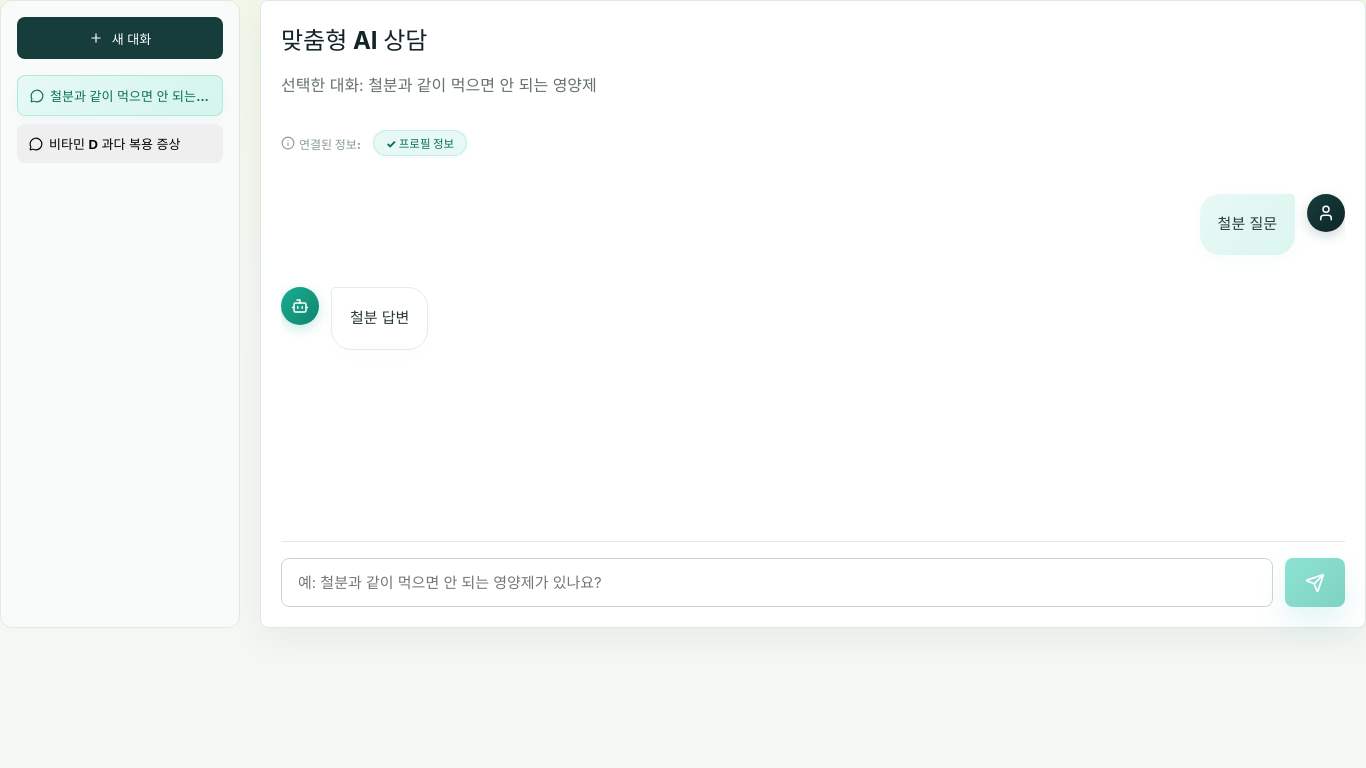
Scenario: ChatPage previous conversations › prefetches stored session messages after loading the session list
This screenshot has width=1366, height=768.
Expected: the text "철분 질문" is shown, top-left (1218, 212), bottom-right (1277, 237)
Expected: the element with class "chat-sidebar" is shown, top-left (0, 0), bottom-right (240, 628)
Step 1. Click the button "비타민 D 과다 복용 증상" → coordinates (120, 144), box top-left (17, 124), bottom-right (223, 163)
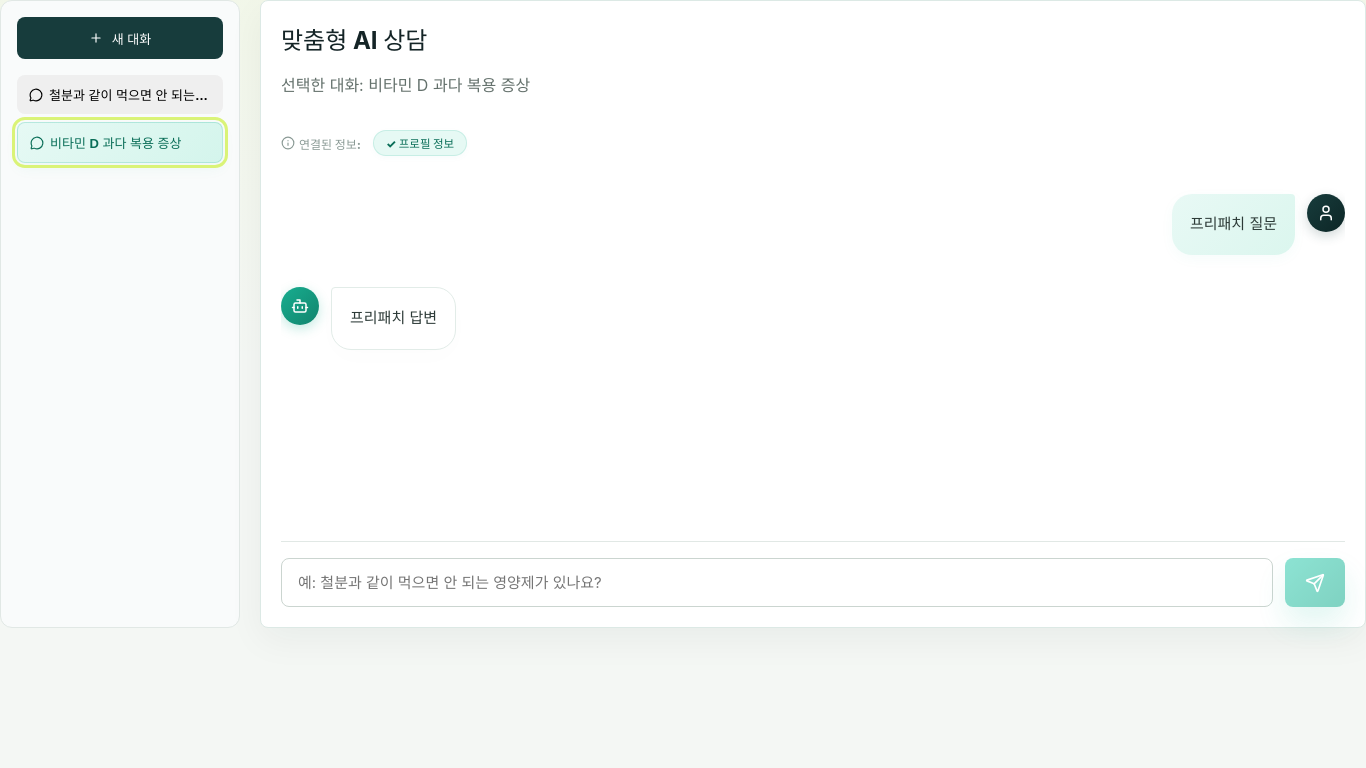
Expected: the text "프리패치 질문" is shown, top-left (1190, 212), bottom-right (1277, 237)
Expected: the text "프리패치 답변" is shown, top-left (350, 306), bottom-right (437, 331)
